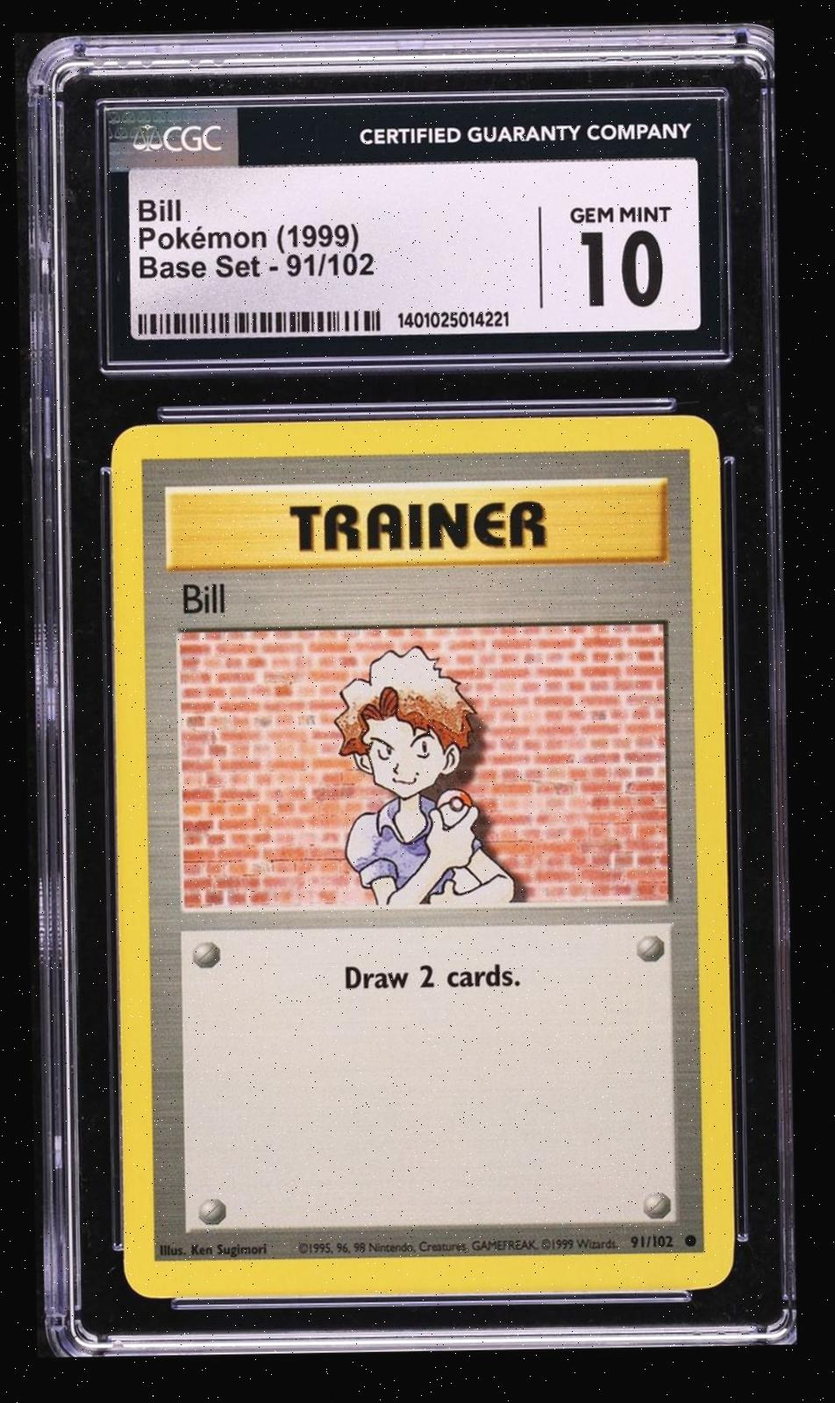card-2UtV: (110, 414, 734, 1299)
